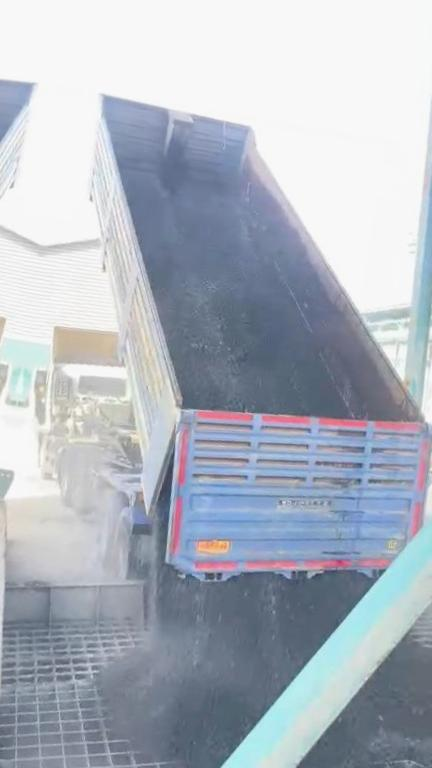gravel: (123, 169, 349, 417), (103, 574, 370, 768), (299, 638, 426, 768)
